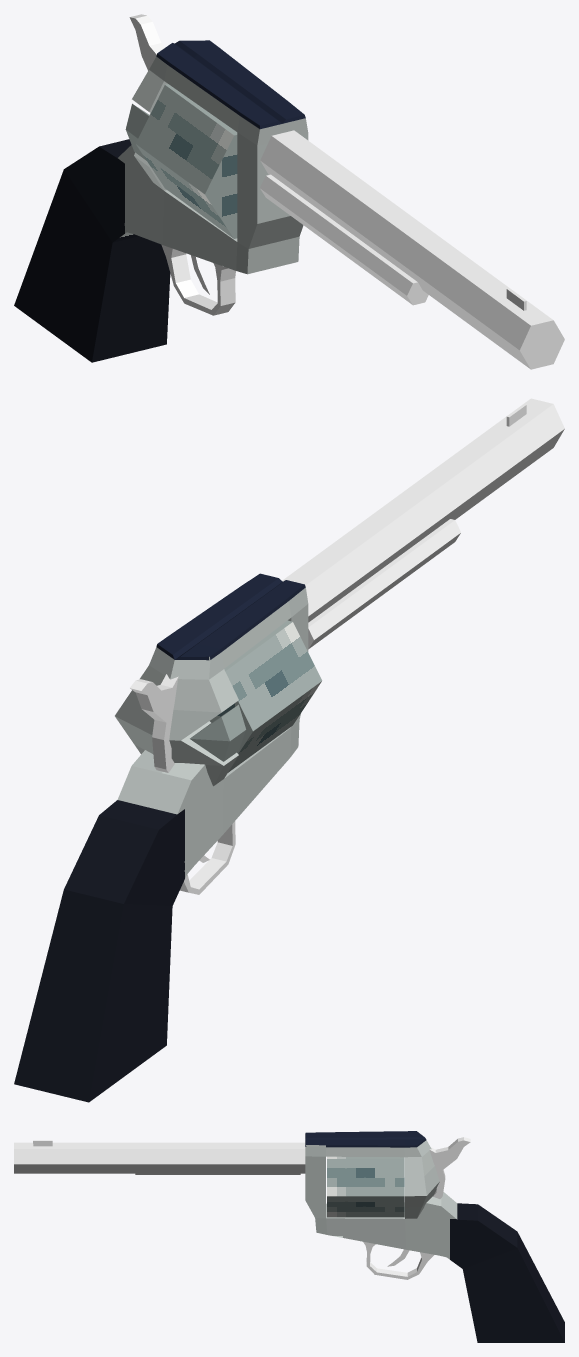
Rendered from colt_saa.gltf.
The picture shows the model from 3 angles, top to bottom: view 1: azimuth 30°, elevation 25°; view 2: azimuth 150°, elevation 25°; view 3: azimuth 270°, elevation 25°; orthographic projection. The views are drawn at different scales.
Visible parts, largest first — view 1: Frame, Barrel, Cylinder, Ejector, TriggerGuard, cuboid, Door; view 2: Frame, Barrel, Cylinder, Ejector, cuboid, Door, TriggerGuard; view 3: Frame, Barrel, Cylinder, cuboid, TriggerGuard, Ejector.
Boxes of the visible parts, x1,y1,x2,y2 form: Frame: (14,40,308,362); Barrel: (260,130,564,369); Cylinder: (135,84,237,238); Ejector: (260,174,428,305); TriggerGuard: (161,244,235,315); cuboid: (129,14,164,70); Door: (125,103,149,160); Frame: (14,573,308,1102); Barrel: (282,398,564,622); Cylinder: (210,620,322,772); Ejector: (308,519,460,649); cuboid: (130,674,178,772); Door: (190,704,246,761); TriggerGuard: (180,821,235,894); Frame: (305,1131,564,1342); Barrel: (14,1142,305,1173); Cylinder: (327,1156,404,1217); cuboid: (429,1137,470,1198); TriggerGuard: (363,1241,434,1279); Ejector: (135,1173,300,1174).
Size of the model in its own units: 0.2475 by 0.6898 by 1.77.
Materials: 6 (3 with a texture image).
